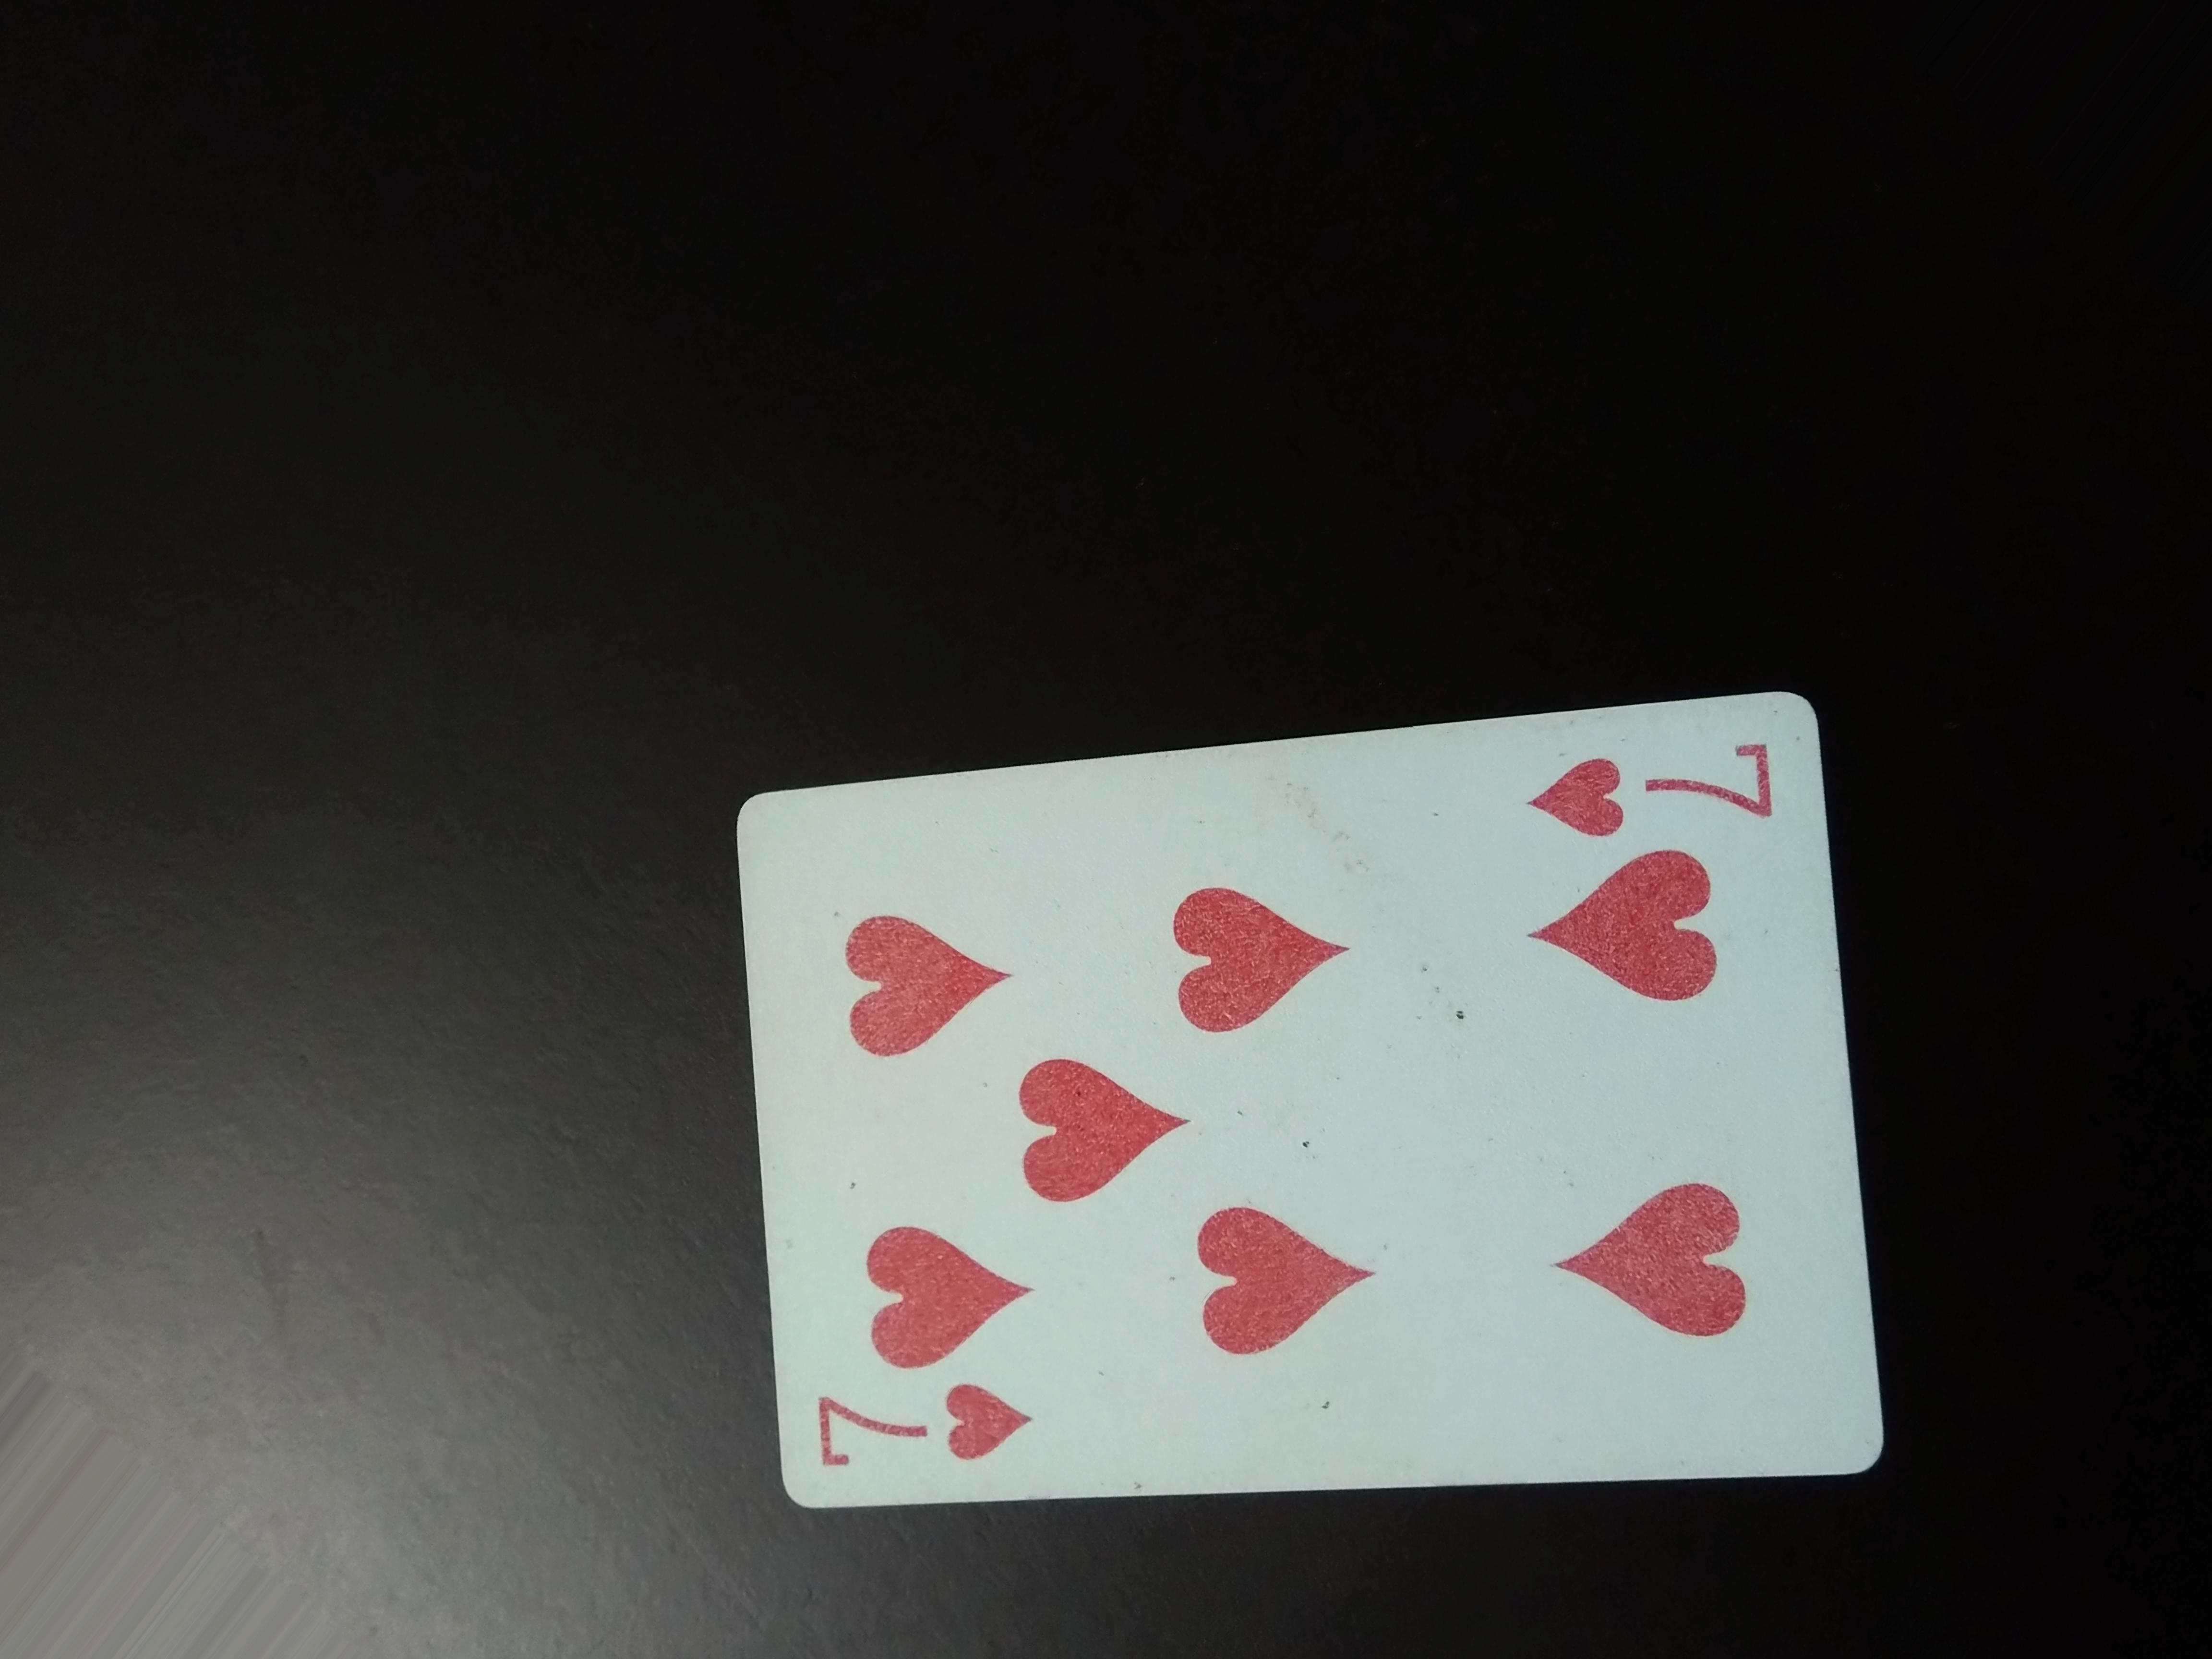7H: (1522, 704, 1808, 850)
